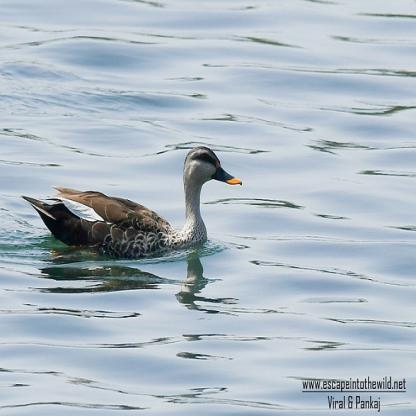Burung: (20, 145, 241, 259)
